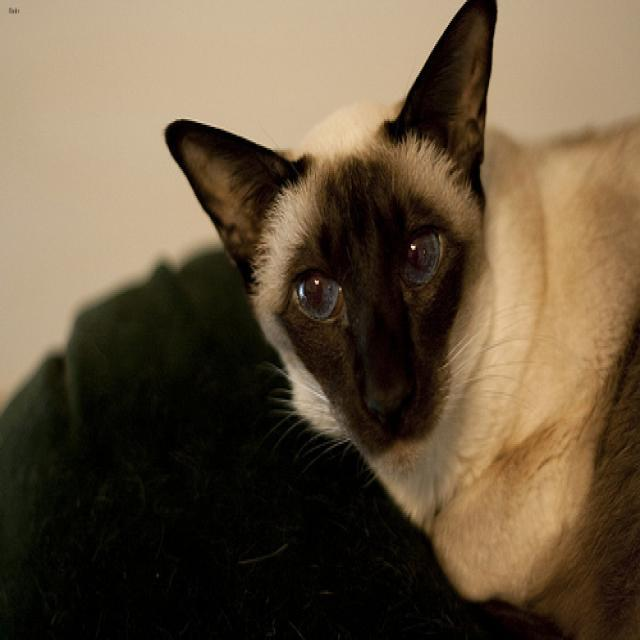Siamese: (163, 0, 495, 482)
